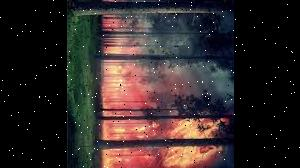fire: (93, 67, 219, 168)
